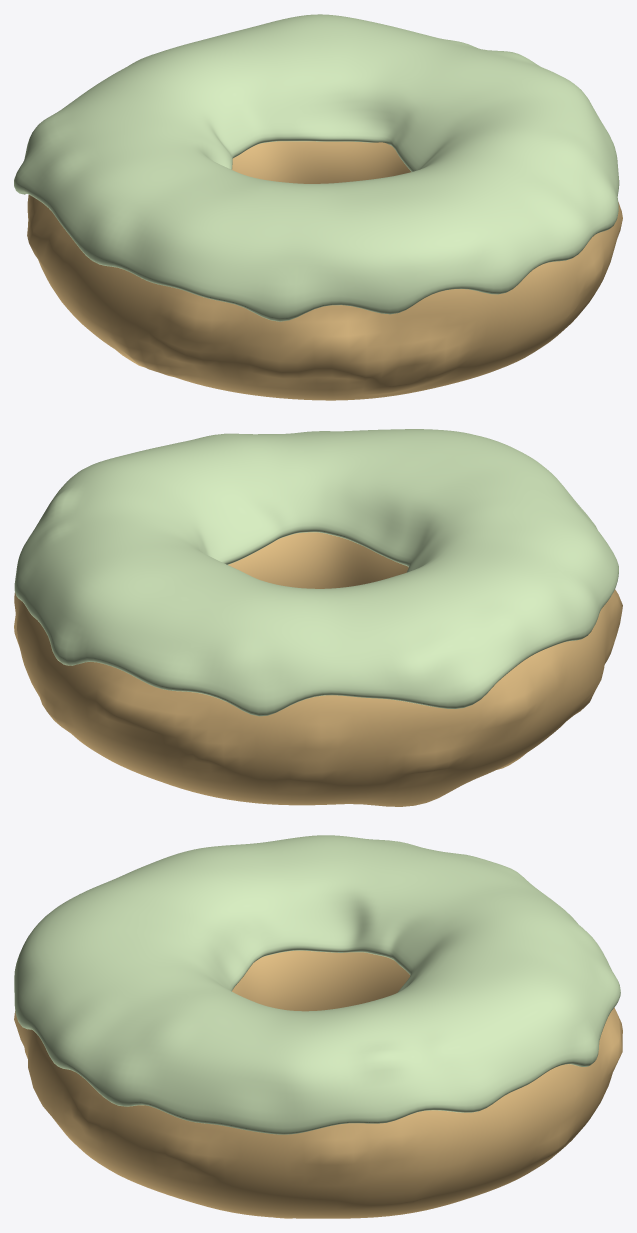
The model's file is donuts.glb.
3 views of the same model, one above another, from view 1: azimuth 30°, elevation 25°; view 2: azimuth 150°, elevation 25°; view 3: azimuth 270°, elevation 25° (orthographic).
Parts seen in each view (by area): view 1: sugar, donut; view 2: sugar, donut; view 3: sugar, donut.
Boxes of the visible parts, <box> form: sugar: <box>14,14,619,321</box>; donut: <box>27,141,622,400</box>; sugar: <box>14,429,618,716</box>; donut: <box>14,532,622,806</box>; sugar: <box>14,835,620,1134</box>; donut: <box>14,950,622,1218</box>.
Size of the model in its own units: 0.1555 by 0.0596 by 0.1571.
